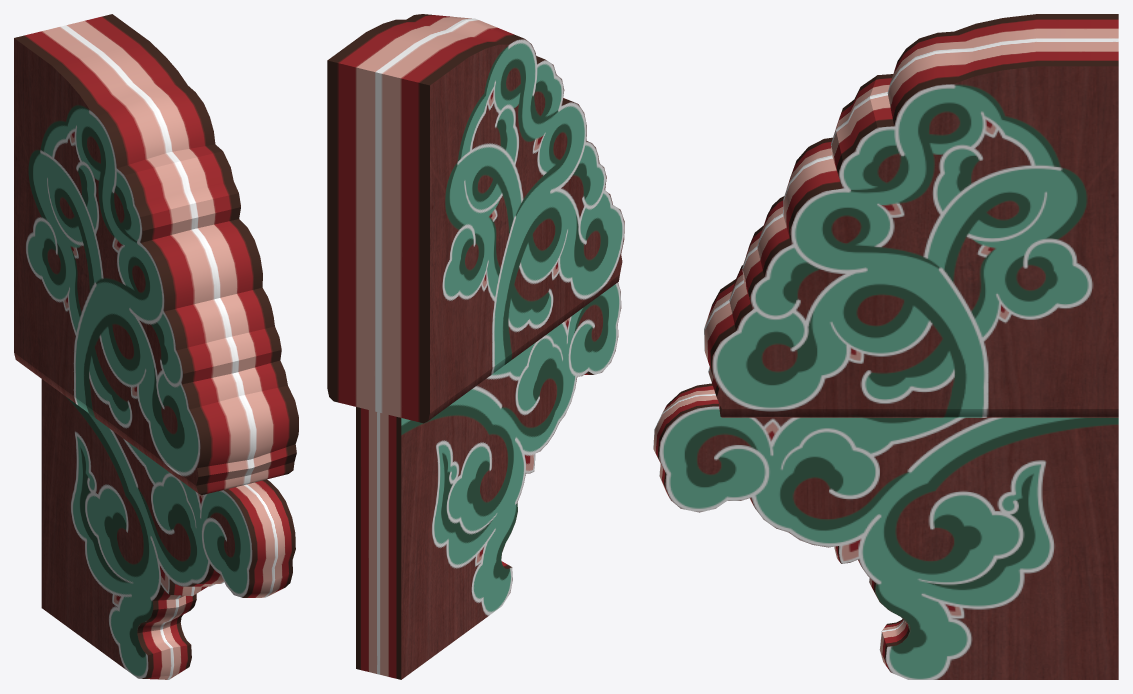
The model's file is SM_Gongpo04R.fbx.
The picture shows the model from 3 angles, left to right: view 1: azimuth 30°, elevation 25°; view 2: azimuth 150°, elevation 25°; view 3: azimuth 270°, elevation 25°; orthographic projection. The views are drawn at different scales.
Visible parts, largest first — view 1: SM_Gongpo04R; view 2: SM_Gongpo04R; view 3: SM_Gongpo04R.
Part boxes in pixels (x1=…): SM_Gongpo04R: x1=14, y1=14, x2=298, y2=679; SM_Gongpo04R: x1=327, y1=14, x2=624, y2=679; SM_Gongpo04R: x1=653, y1=14, x2=1118, y2=679.
Size of the model in its own units: 15.29 by 57.48 by 85.61.
